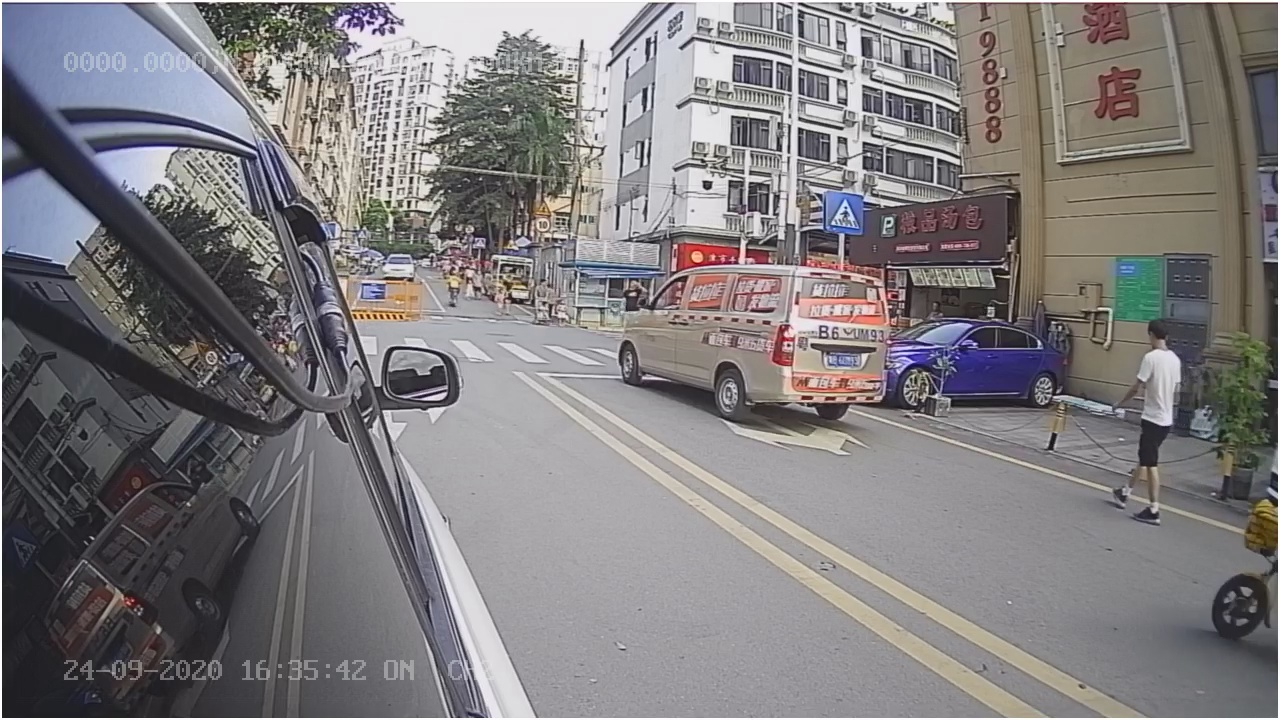person: (1087, 301, 1202, 540)
